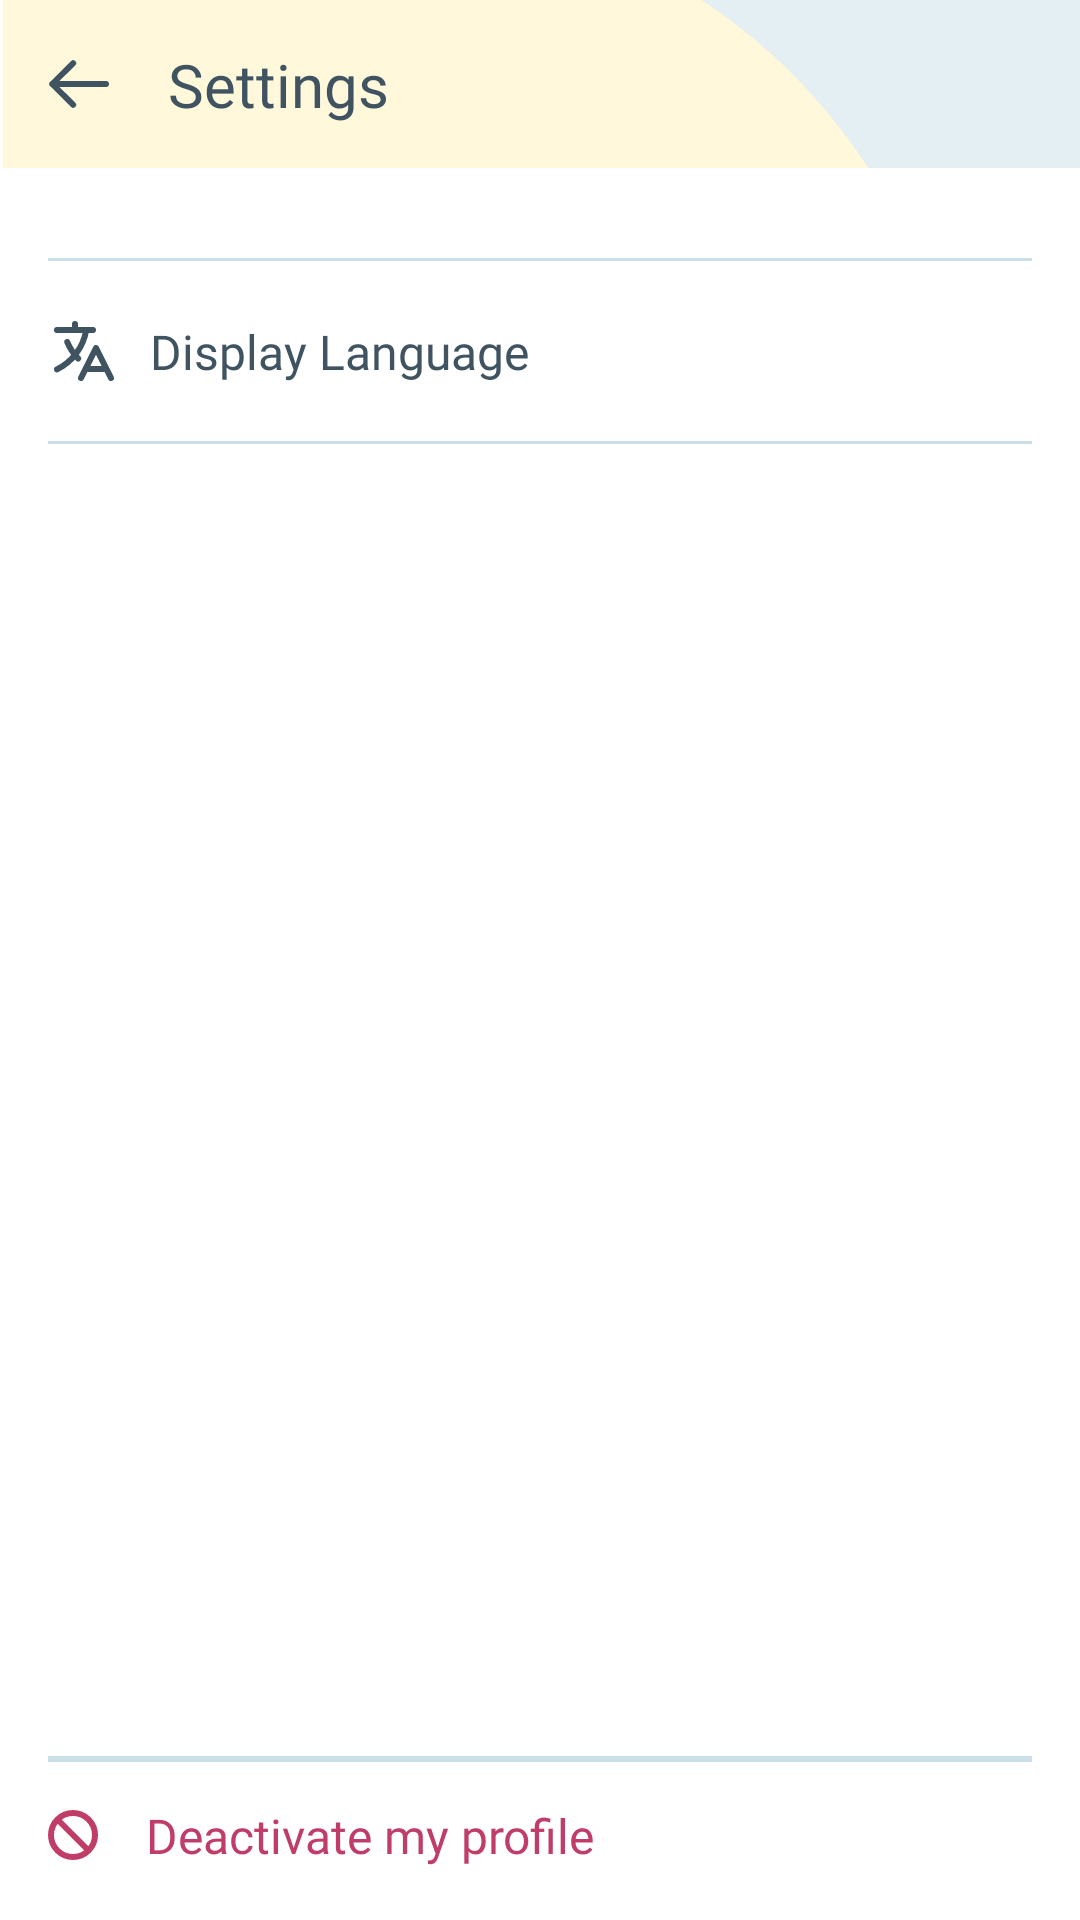

Icon bounding boxes for this 1080w x 1920h phone screenshot, format [left=x1, top=y1, right=x2, bottom=y2]:
translate: [left=54, top=321, right=114, bottom=381]
